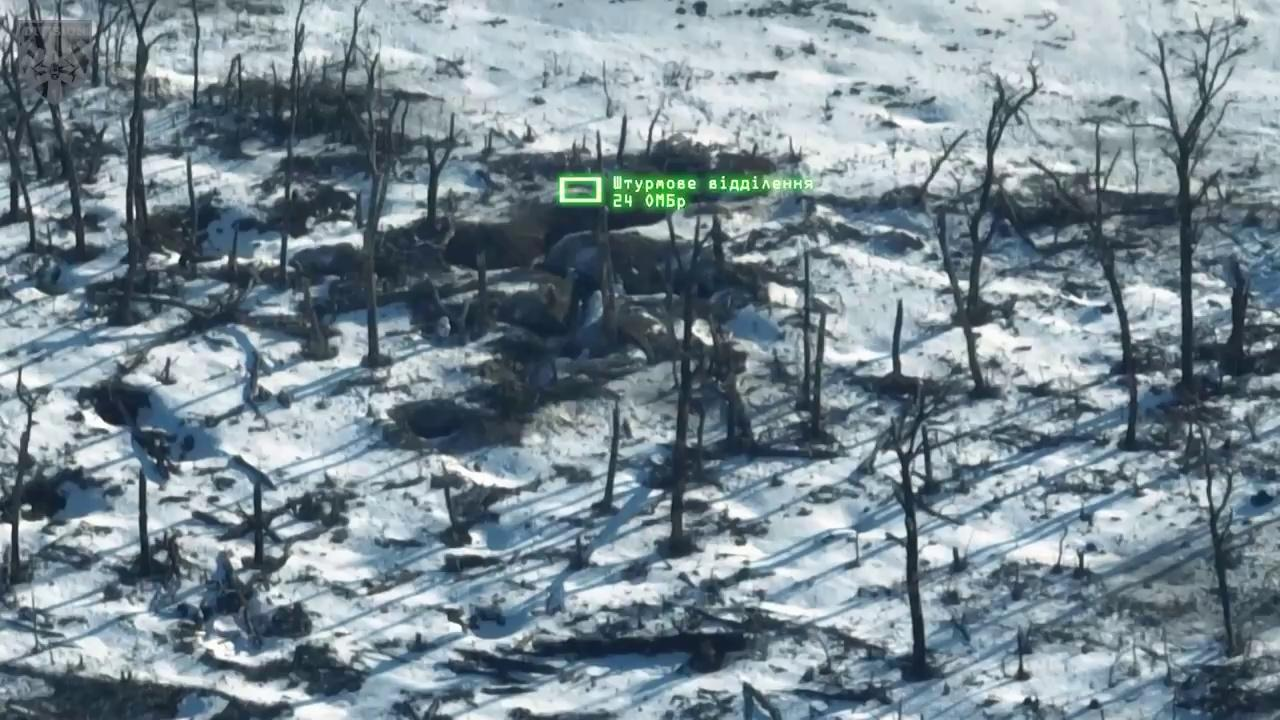trench: (406, 133, 798, 346)
